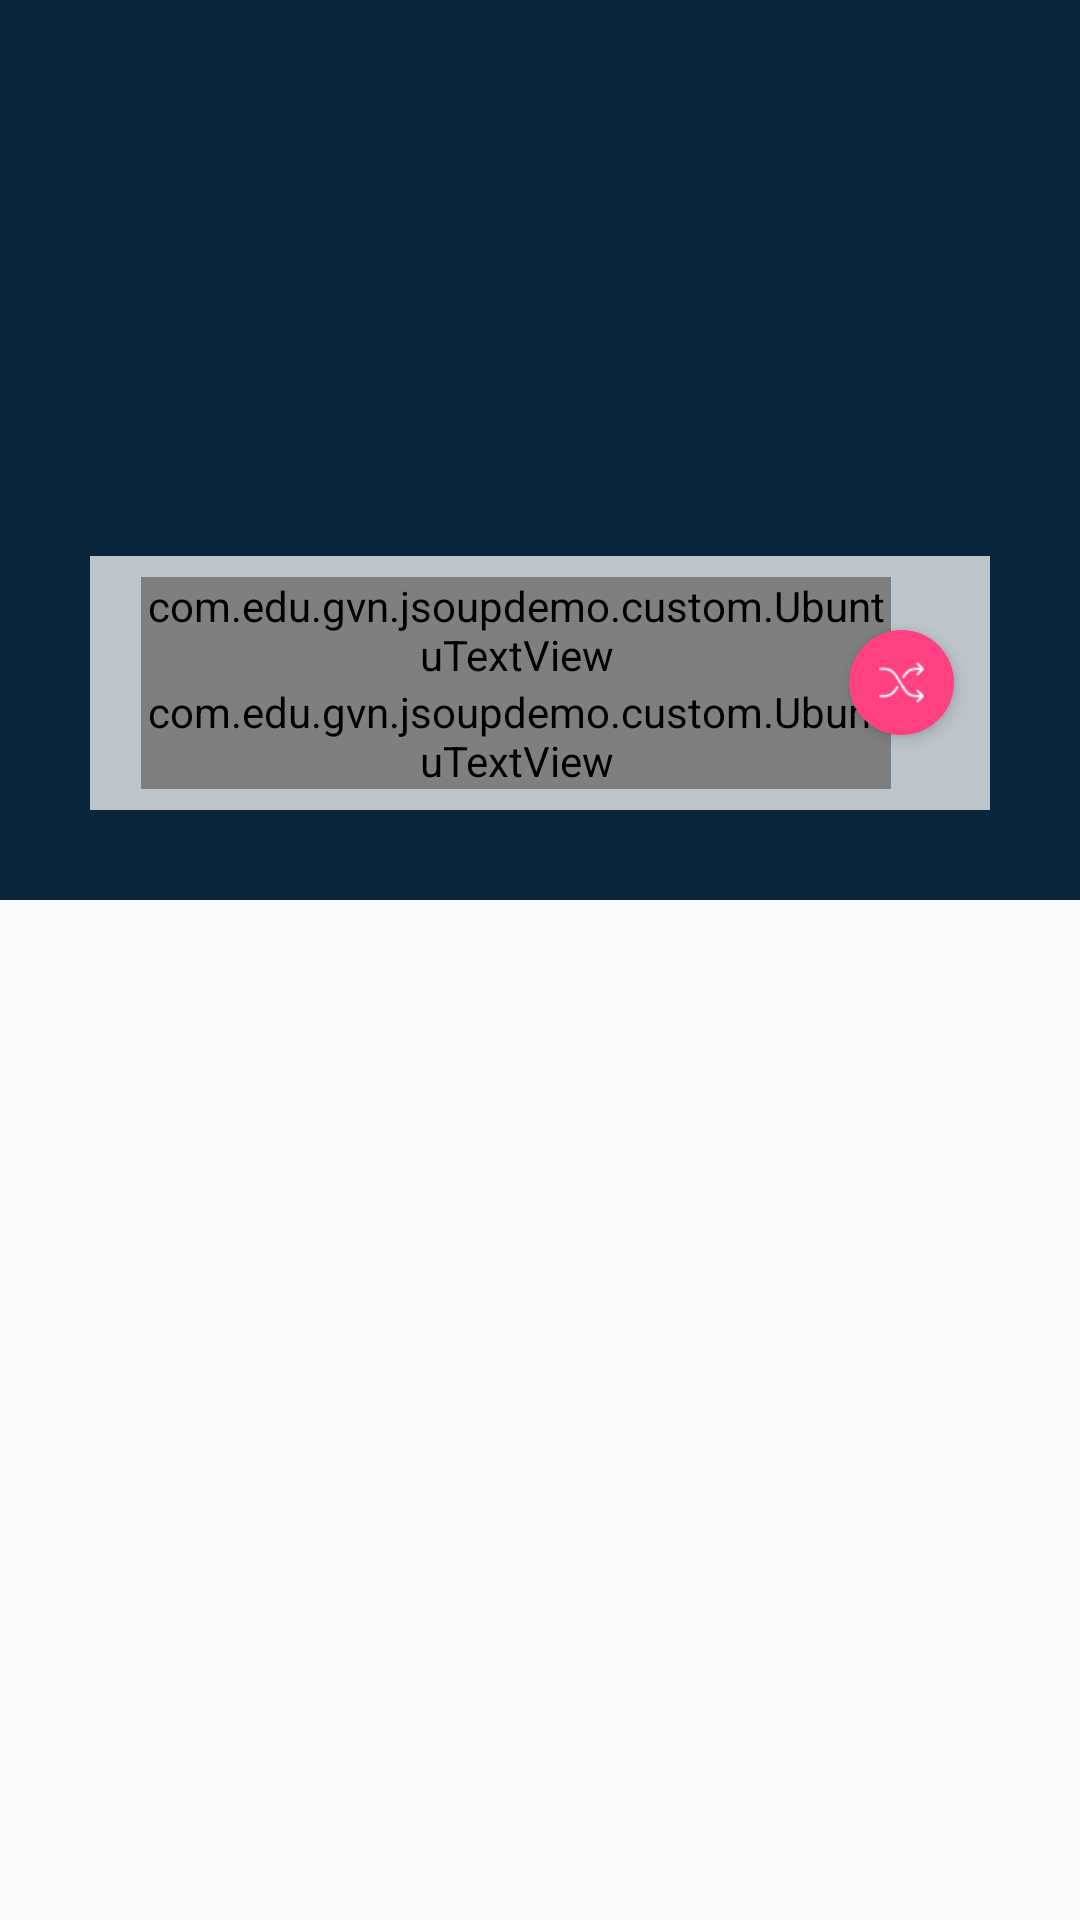

Where to tap for icons on this 1080w x 1920h app screen, as (x=x, y=y):
player shuffle: (x=901, y=682)
